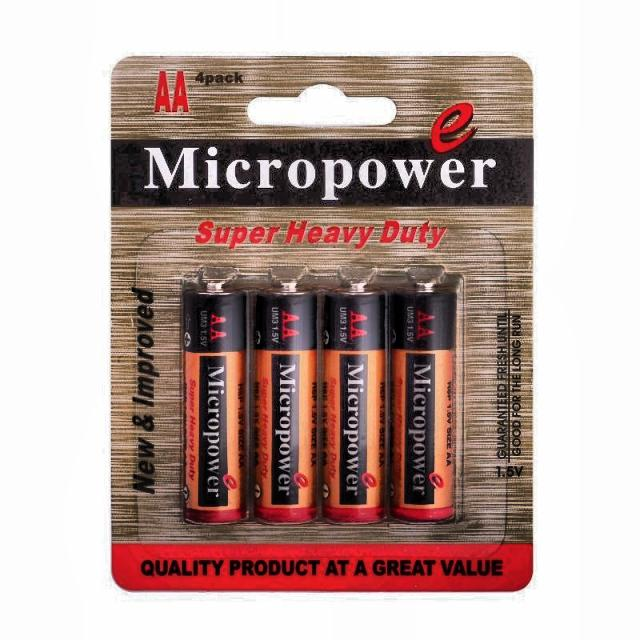Non-Valuable Waste - Batteries: (391, 270, 456, 521), (255, 269, 316, 522), (184, 280, 246, 522), (322, 290, 385, 522)
